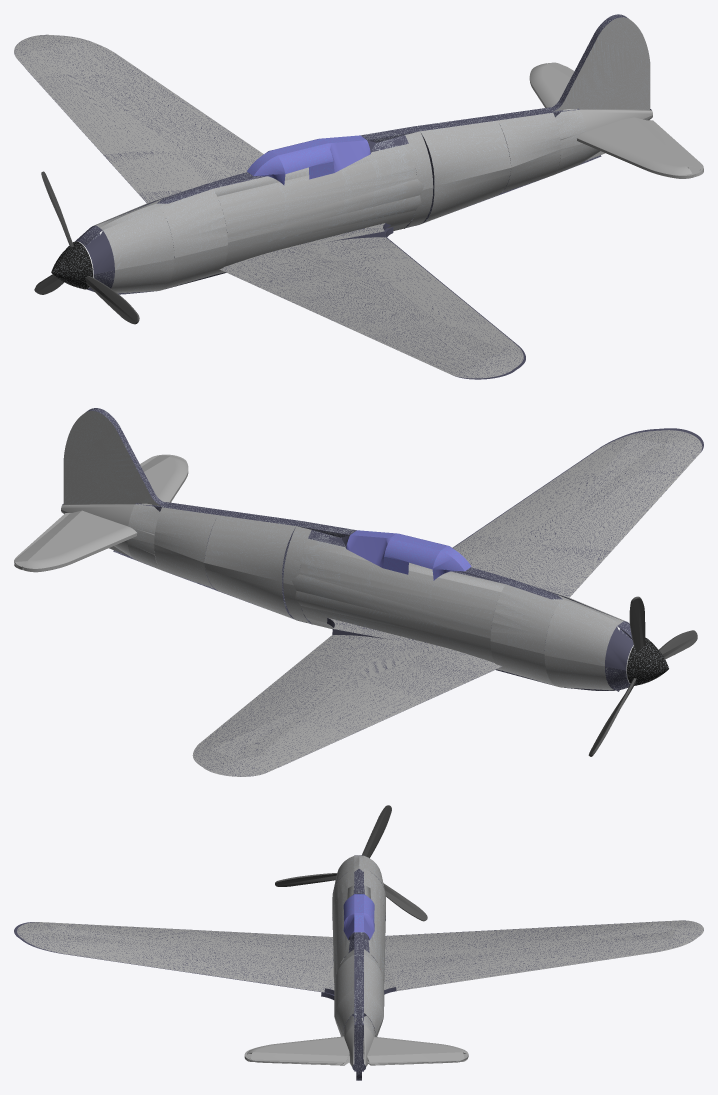
3 renders of one model, top to bottom at view 1: azimuth 30°, elevation 25°; view 2: azimuth 150°, elevation 25°; view 3: azimuth 270°, elevation 25°, orthographic. The views are drawn at different scales.
Parts seen in each view (by area): view 1: SketchUp (×11), group_10, group_11, group_2, group_14, group_3, group_1, group_13; view 2: SketchUp (×10), group_11, group_10, group_9, group_5, group_8, group_16, group_14; view 3: SketchUp (×11), group_11, group_10, group_16, group_15, group_14.
Part boxes in pixels (x1,y1,x2,y2): SketchUp (×11): [14, 14, 652, 379]; group_10: [576, 117, 701, 174]; group_11: [529, 62, 573, 107]; group_2: [580, 109, 652, 131]; group_14: [85, 276, 139, 324]; group_3: [327, 140, 370, 172]; group_1: [85, 231, 114, 274]; group_13: [646, 120, 703, 178]; SketchUp (×10): [61, 408, 702, 776]; group_11: [14, 510, 137, 571]; group_10: [141, 455, 187, 502]; group_9: [61, 504, 134, 526]; group_5: [346, 535, 390, 567]; group_8: [605, 626, 633, 670]; group_16: [629, 596, 645, 650]; group_14: [659, 630, 697, 659]; SketchUp (×11): [14, 855, 703, 1080]; group_11: [363, 1036, 468, 1065]; group_10: [247, 1036, 349, 1065]; group_16: [362, 805, 391, 858]; group_15: [383, 883, 427, 921]; group_14: [275, 873, 336, 886].
Size of the model in its own units: 106 by 143 by 30.72.
